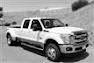car: (5, 16, 92, 63)
